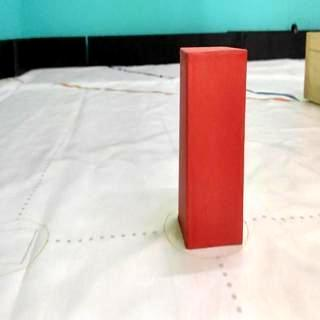redbox: (179, 45, 247, 251)
